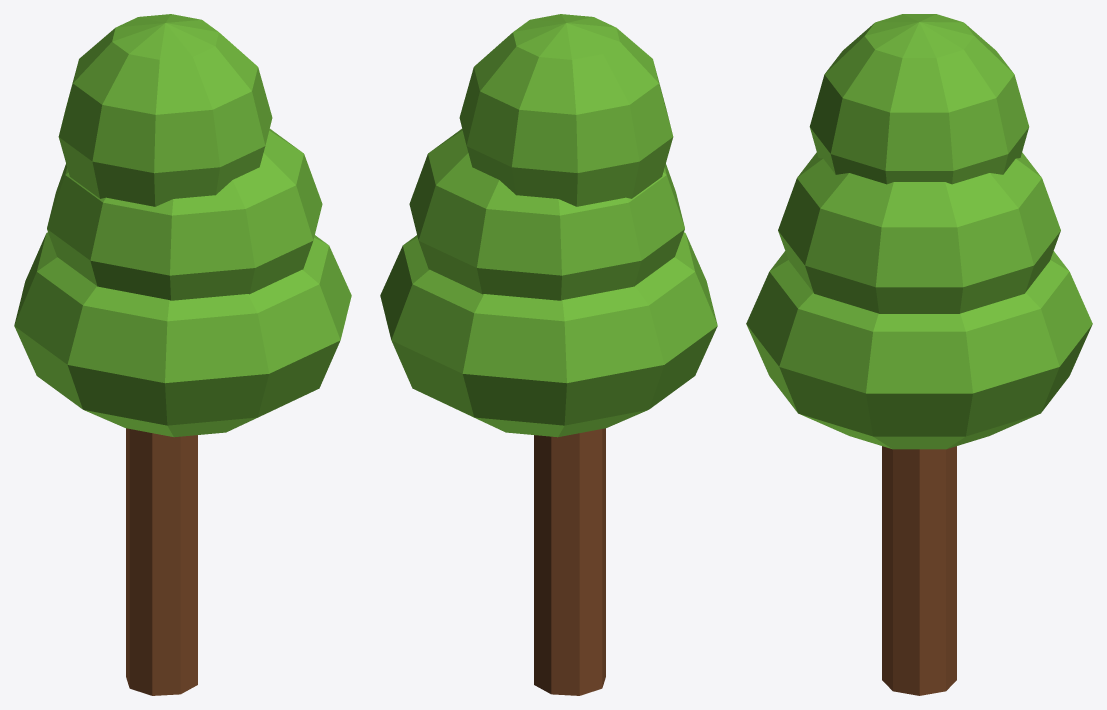
The model's file is ENV_Greenwood_Tree_B_V1.glb.
3 views of the same model, side by side, from view 1: azimuth 30°, elevation 25°; view 2: azimuth 150°, elevation 25°; view 3: azimuth 270°, elevation 25° (orthographic).
Parts seen in each view (by area): view 1: Canopy_0, Canopy_2, Canopy_1, Trunk; view 2: Canopy_0, Canopy_2, Canopy_1, Trunk; view 3: Canopy_0, Canopy_1, Canopy_2, Trunk.
Boxes of the visible parts, box(x1,y1,x2,y2) form: Canopy_0: box(14, 232, 351, 437); Canopy_2: box(58, 14, 272, 206); Canopy_1: box(47, 129, 322, 300); Trunk: box(126, 428, 197, 695); Canopy_0: box(380, 232, 717, 437); Canopy_2: box(459, 14, 673, 206); Canopy_1: box(409, 129, 684, 300); Trunk: box(534, 428, 605, 695); Canopy_0: box(746, 251, 1092, 449); Canopy_1: box(778, 152, 1060, 313); Canopy_2: box(809, 14, 1029, 184); Trunk: box(882, 446, 956, 695).
Bounding box in the file's own units: 5.71 × 12.6 × 6.
